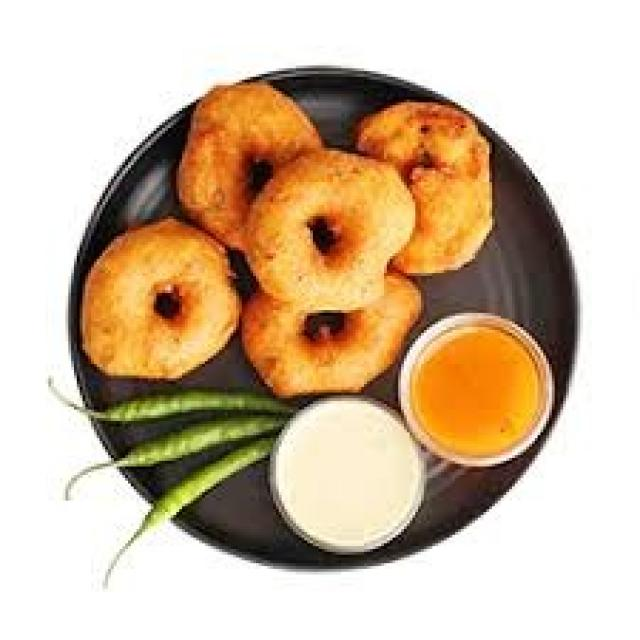medu vadai: (84, 83, 486, 389), (241, 148, 392, 319), (82, 220, 240, 380), (178, 83, 324, 254), (354, 101, 492, 274)
